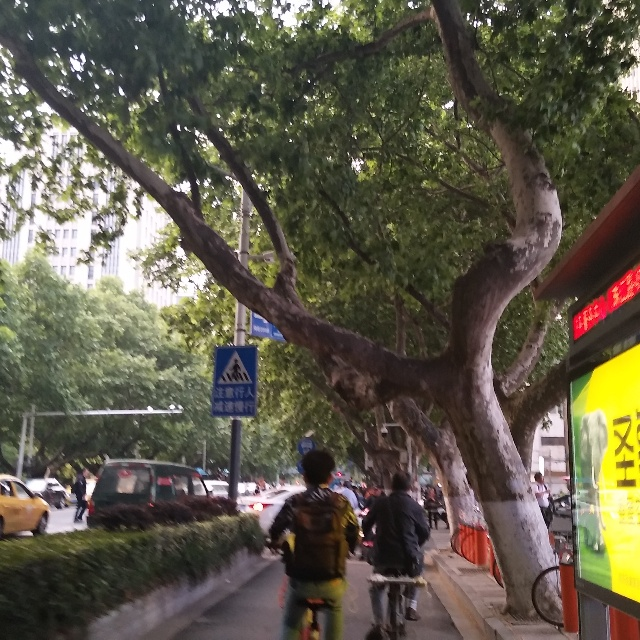crosswalk: (213, 342, 253, 387)
